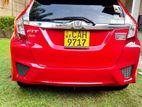car: (8, 0, 142, 97)
